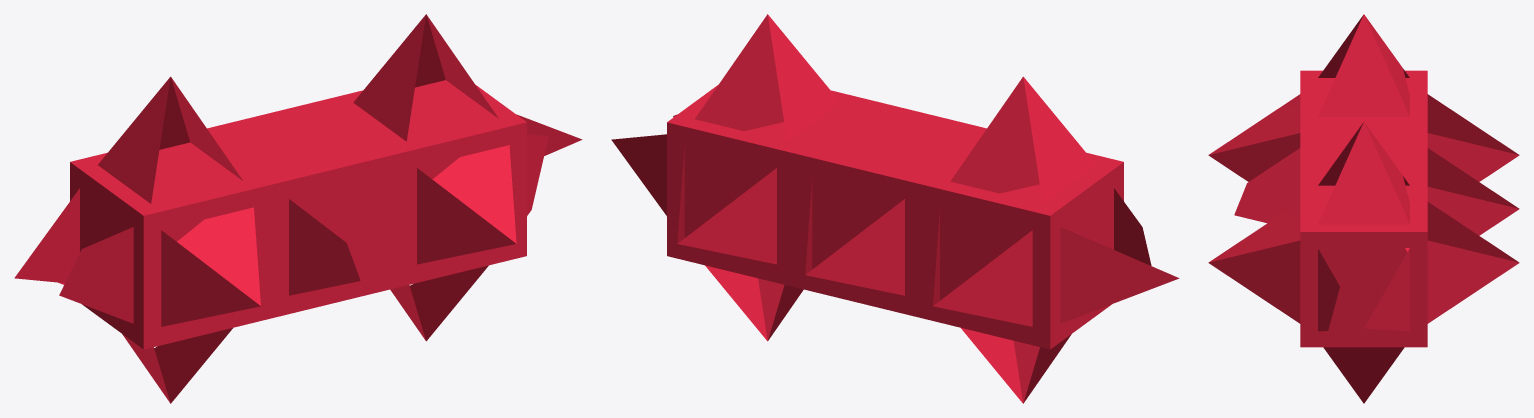
File: obstaclelong.fbx
3 views of the same model, side by side, from view 1: azimuth 30°, elevation 25°; view 2: azimuth 150°, elevation 25°; view 3: azimuth 270°, elevation 25° (orthographic). The views are drawn at different scales.
Parts seen in each view (by area): view 1: pyramid; view 2: pyramid; view 3: pyramid.
Part boxes in pixels (<box>): pyramid: <box>14,14,582,403</box>; pyramid: <box>611,14,1179,403</box>; pyramid: <box>1208,14,1519,403</box>.
Size of the model in its own units: 222 by 122 by 122.
Materials: 1 (1 with a texture image).
